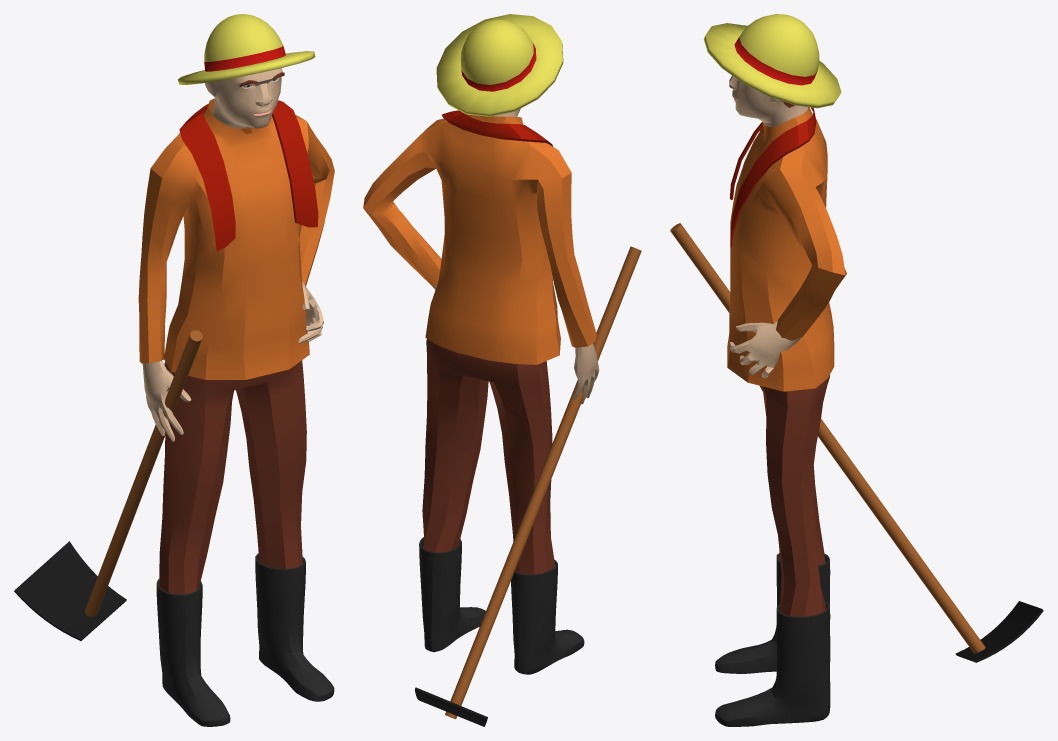
Rendered from worker.glb.
3 renders of one model, left to right at view 1: azimuth 30°, elevation 25°; view 2: azimuth 150°, elevation 25°; view 3: azimuth 270°, elevation 25°, orthographic. The views are drawn at different scales.
Parts seen in each view (by area): view 1: Human 2.001_2, Human 2.002_3, Cylinder_4, Sphere_1; view 2: Human 2.001_2, Sphere_1, Human 2.002_3, Cylinder_4; view 3: Human 2.001_2, Human 2.002_3, Sphere_1, Cylinder_4.
Boxes of the visible parts, x1=… form: Human 2.001_2: x1=138, y1=68, x2=334, y2=594; Human 2.002_3: x1=156, y1=553, x2=334, y2=726; Cylinder_4: x1=14, y1=330, x2=202, y2=640; Sphere_1: x1=178, y1=14, x2=315, y2=84; Human 2.001_2: x1=363, y1=108, x2=599, y2=574; Sphere_1: x1=436, y1=14, x2=563, y2=116; Human 2.002_3: x1=419, y1=537, x2=584, y2=674; Cylinder_4: x1=415, y1=246, x2=641, y2=726; Human 2.001_2: x1=727, y1=75, x2=846, y2=616; Human 2.002_3: x1=715, y1=553, x2=830, y2=726; Sphere_1: x1=703, y1=14, x2=841, y2=108; Cylinder_4: x1=670, y1=223, x2=1043, y2=662.
Size of the model in its own units: 40.09 by 114 by 57.14.
